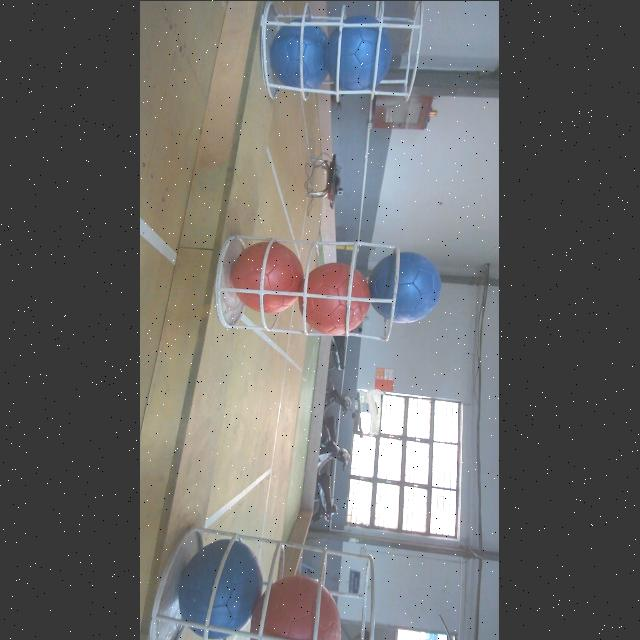B: (180, 535, 266, 639), (324, 13, 398, 95), (370, 250, 446, 324), (272, 16, 330, 92)
R: (230, 237, 302, 315), (254, 578, 344, 640), (303, 258, 369, 336)
